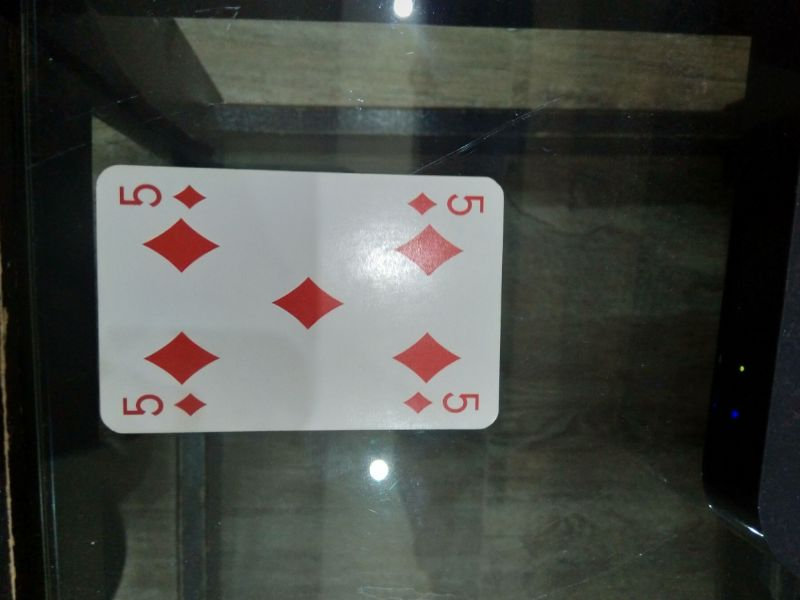5d: (113, 179, 214, 213), (118, 389, 210, 421), (400, 387, 486, 418), (406, 187, 489, 219)
